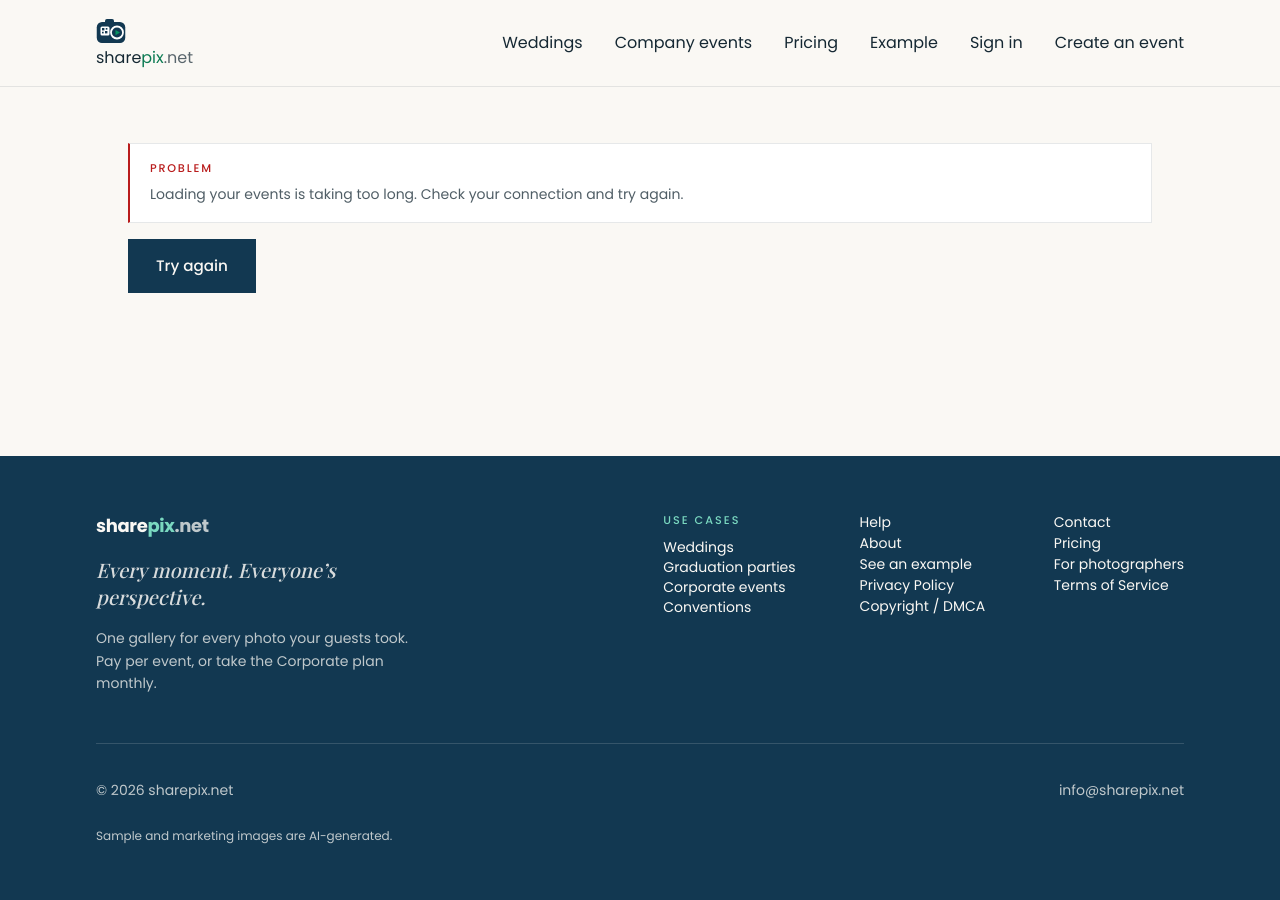
Scenario: My events loading › a late answer from an abandoned attempt cannot overwrite a retry
Click the button "Try again". click: click(192, 266)
box: left=128, top=238, right=256, bottom=293
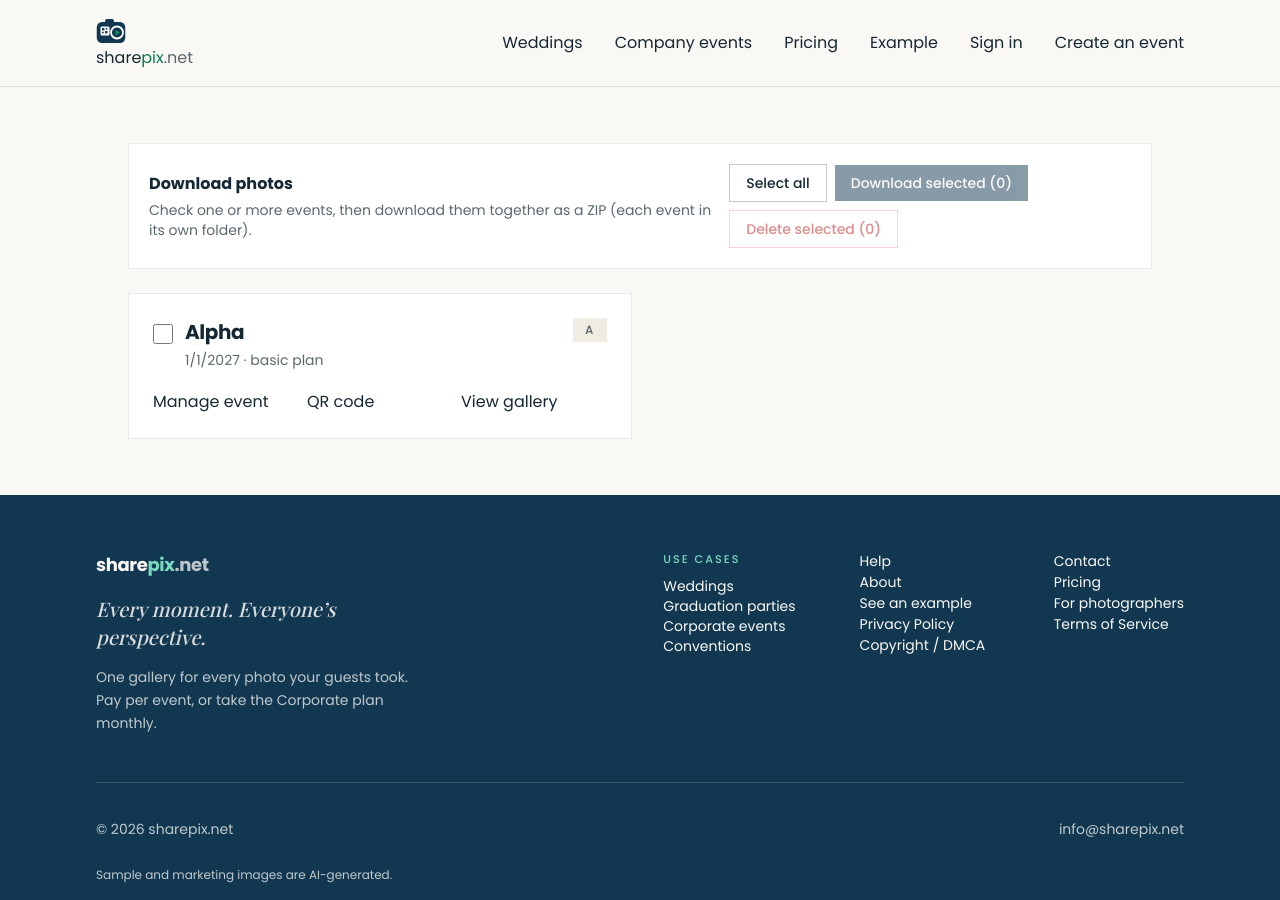
Expected: the heading "Alpha" is shown, left=185, top=318, right=244, bottom=346
